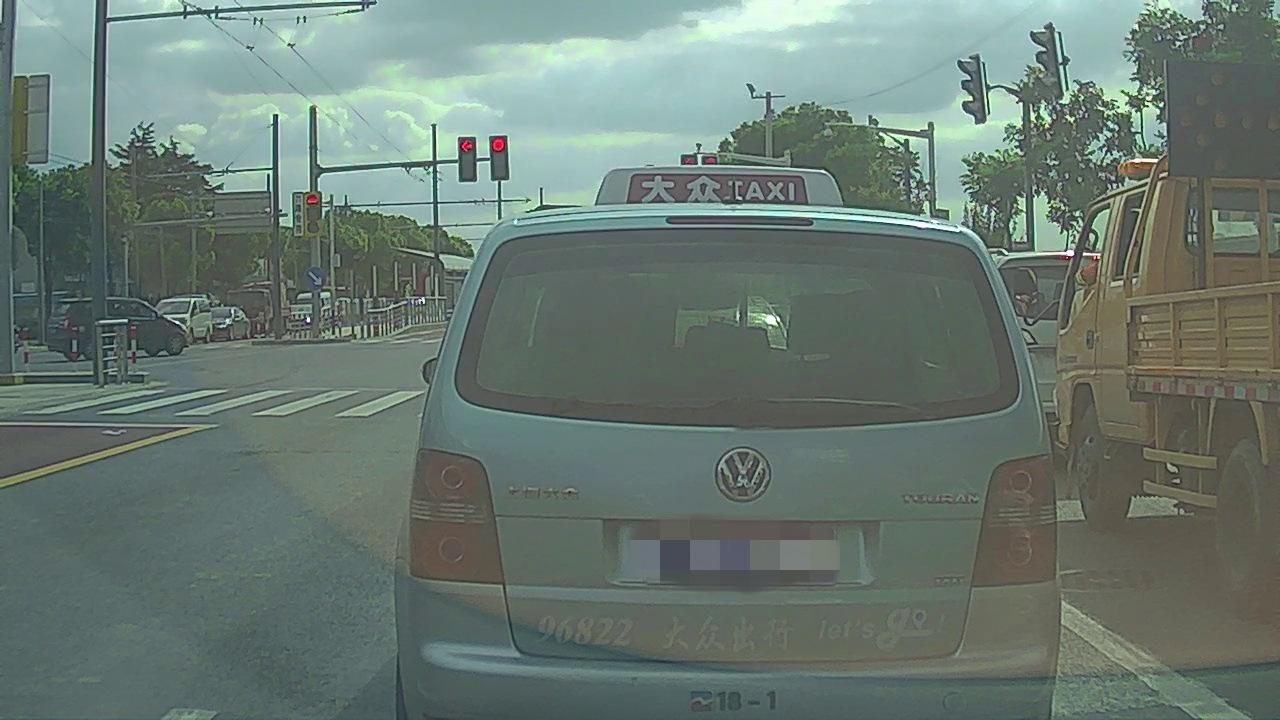traffic_light: (489, 137, 510, 181), (460, 137, 477, 183)
